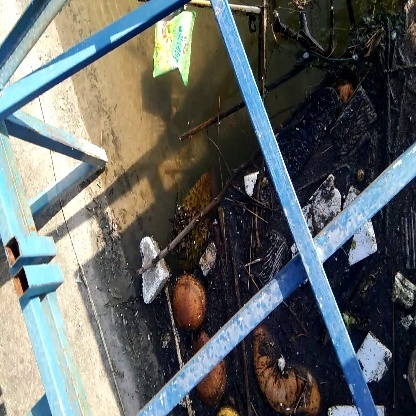ball: (169, 273, 209, 328)
plastic-bag: (156, 19, 200, 85)
